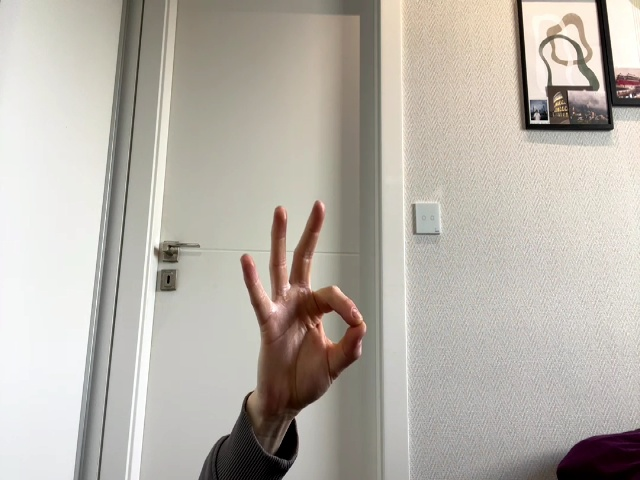O: (241, 201, 366, 418)
